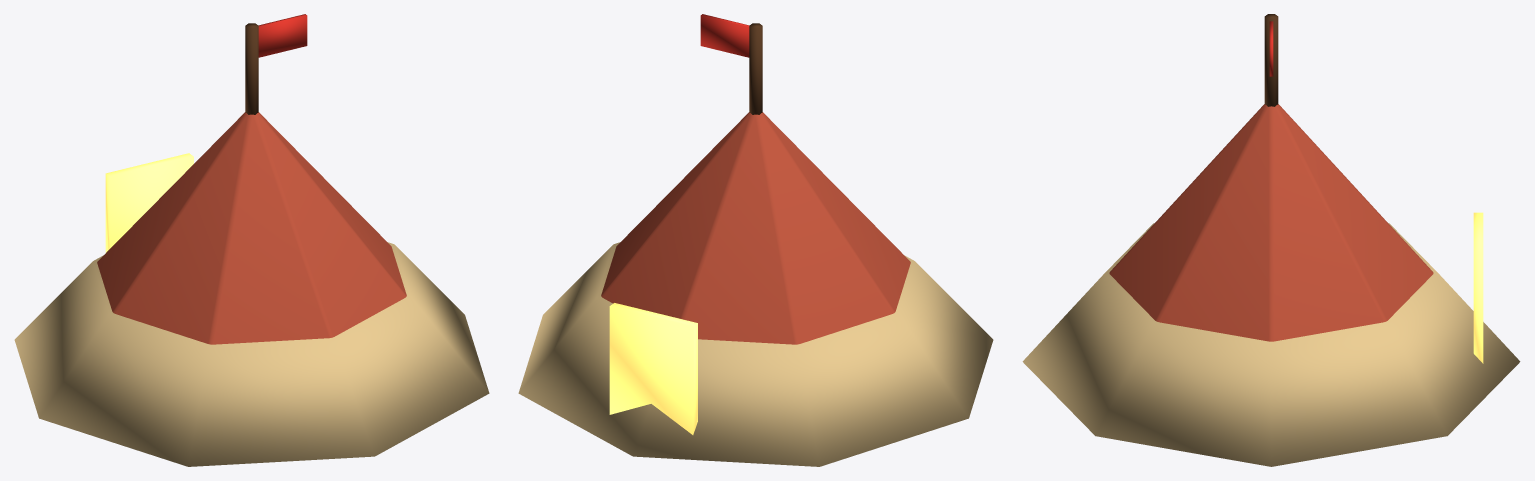
File: tent.glb
3 renders of one model, left to right at view 1: azimuth 30°, elevation 25°; view 2: azimuth 150°, elevation 25°; view 3: azimuth 270°, elevation 25°, orthographic.
Parts seen in each view (by area): view 1: tent; view 2: tent; view 3: tent.
Boxes of the visible parts, x1,y1,x2,y2 form: tent: (14,14,489,466); tent: (518,14,993,466); tent: (1022,14,1520,466).
Size of the model in its own units: 5.1 by 3.9 by 5.1.
